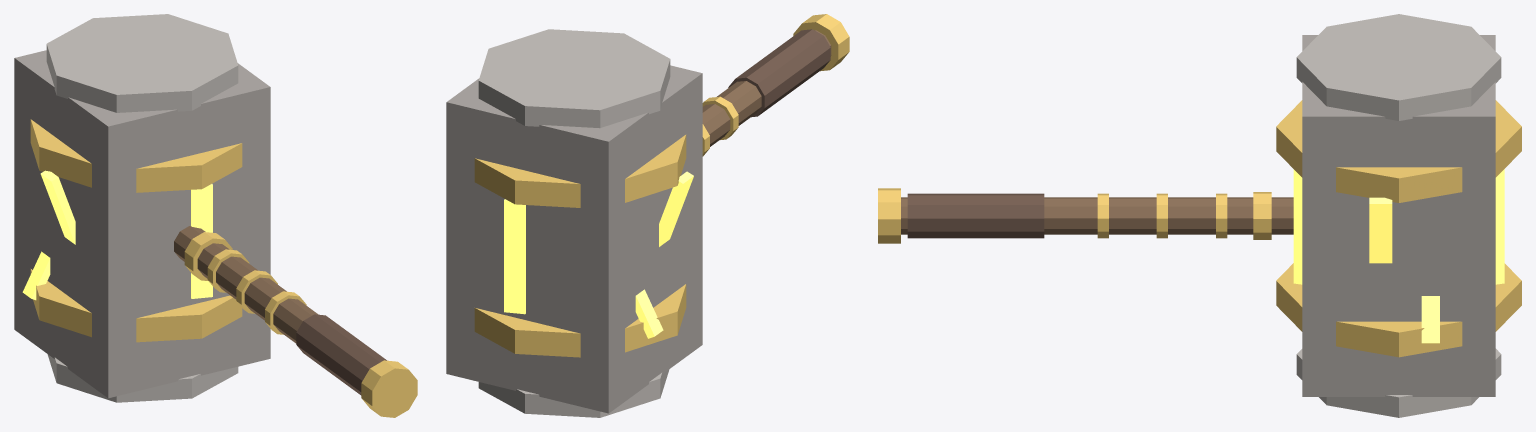
File: earthshaker.glb
3 views of the same model, side by side, from view 1: azimuth 30°, elevation 25°; view 2: azimuth 150°, elevation 25°; view 3: azimuth 270°, elevation 25° (orthographic). The views are drawn at different scales.
Visible parts, largest first — view 1: Head, Handle; view 2: Head, Handle; view 3: Head, Handle.
Boxes of the visible parts, x1,y1,x2,y2 form: Head: (14,14,270,402); Handle: (174,226,417,417); Head: (446,29,702,417); Handle: (702,14,849,156); Head: (1276,14,1521,417); Handle: (878,188,1293,243).
Size of the model in its own units: 0.5517 by 0.77 by 1.41.
